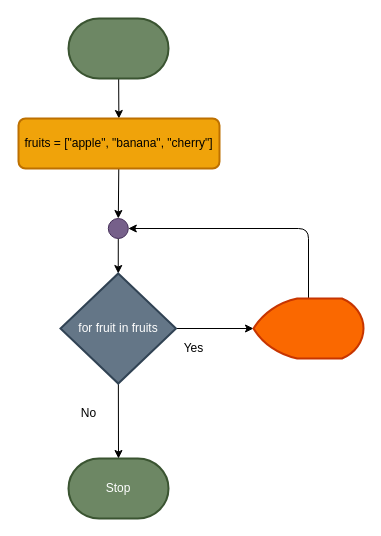
Image size: 381x536. Some labels were removed from this diagram. Each missing label, with the centre of its shape:
Display:fruit: pixel 308 328
Start: pixel 118 48
